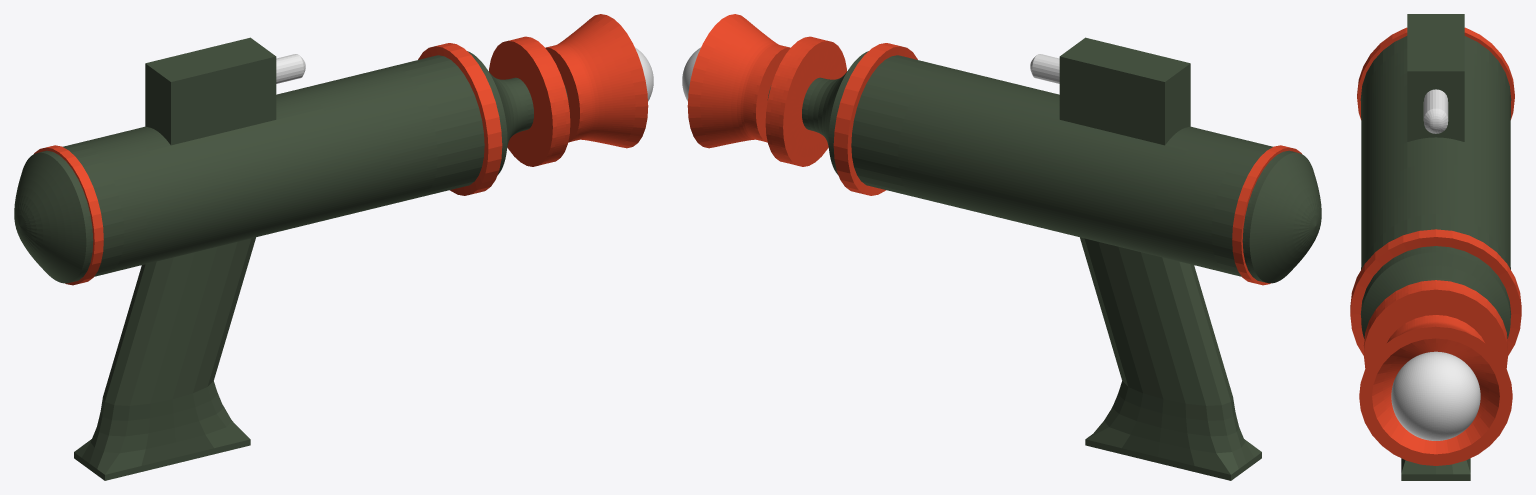
Rendered from Gun.fbx.
3 renders of one model, left to right at view 1: azimuth 30°, elevation 25°; view 2: azimuth 150°, elevation 25°; view 3: azimuth 270°, elevation 25°, orthographic. The views are drawn at different scales.
Parts seen in each view (by area): view 1: Gun; view 2: Gun; view 3: Gun.
Boxes of the visible parts, x1,y1,x2,y2 form: Gun: [14, 14, 653, 480]; Gun: [682, 14, 1321, 480]; Gun: [1350, 14, 1521, 480].
Bounding box in the file's own units: 1079 × 623 × 228.
